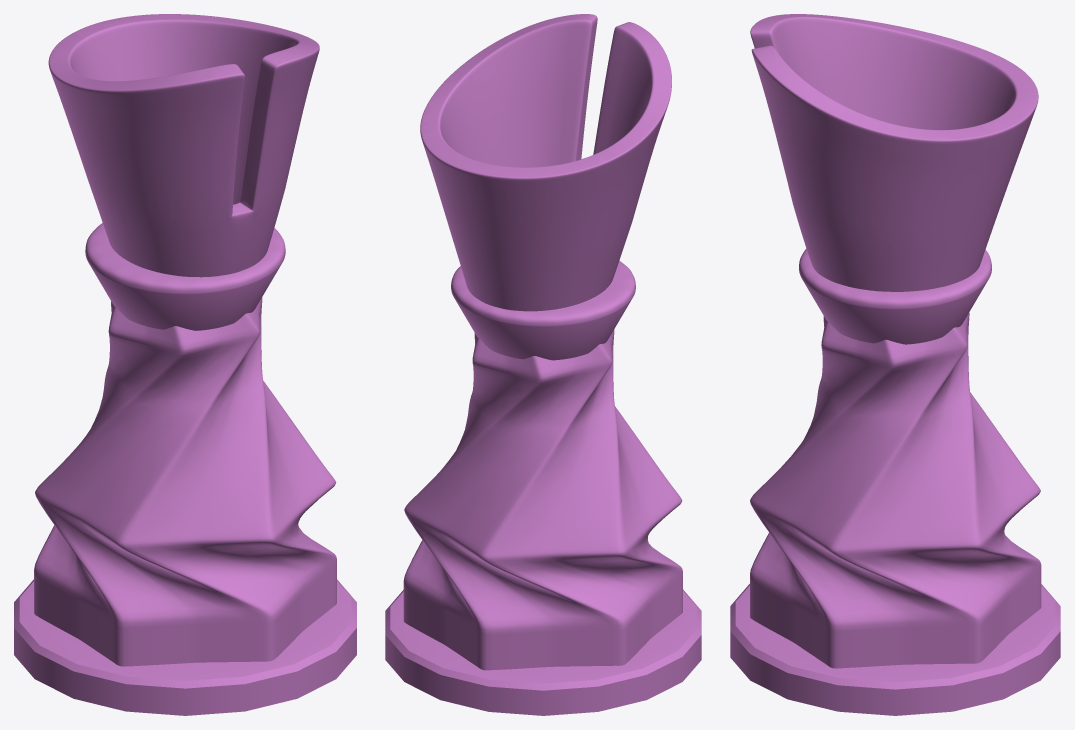
The model's file is bishop.fbx.
3 views of the same model, side by side, from view 1: azimuth 30°, elevation 25°; view 2: azimuth 150°, elevation 25°; view 3: azimuth 270°, elevation 25° (orthographic). The views are drawn at different scales.
Parts seen in each view (by area): view 1: Cylinder023; view 2: Cylinder023; view 3: Cylinder023.
Boxes of the visible parts, <box> form: Cylinder023: <box>14,14,356,715</box>; Cylinder023: <box>385,14,701,715</box>; Cylinder023: <box>730,14,1060,715</box>.
Size of the model in its own units: 37.65 by 75.17 by 37.08.
